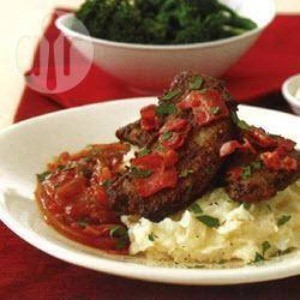liver_brain food: (115, 99, 258, 204)
